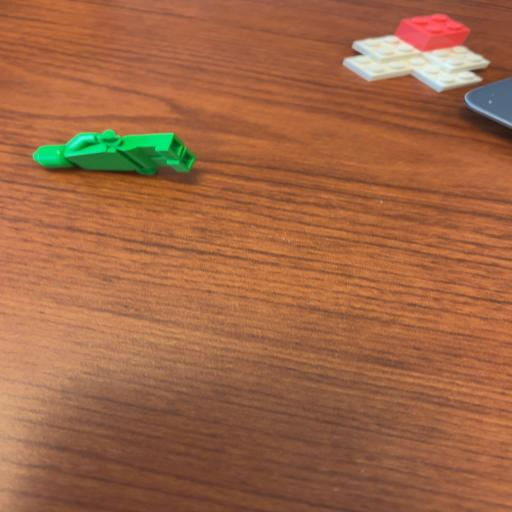UnoQ-minifig-detector: (34, 130, 195, 175)
